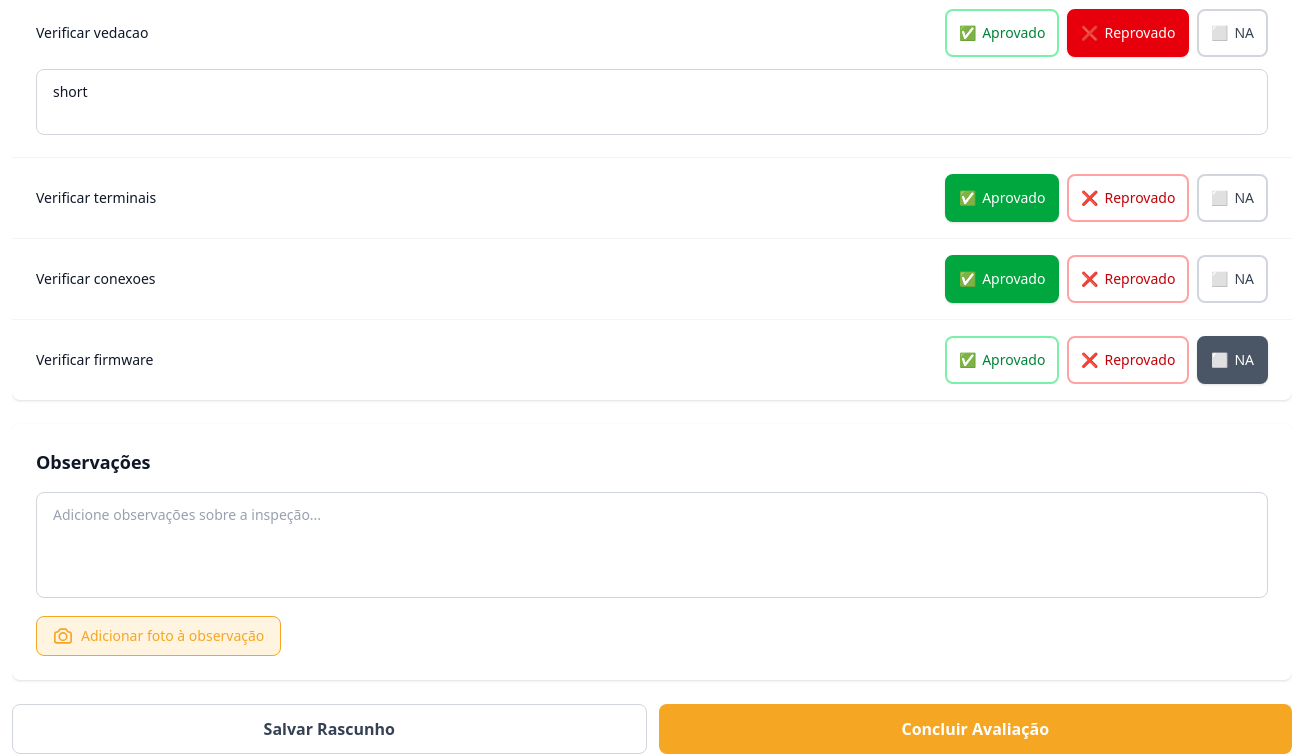
Test case: ChecklistForm - Checklist Validation (US-306) › blocks submission when rejected item reason is too short
The image size is (1304, 754).
(page scrolled)
// The form initializes rejection reasons from items
What coordinates should you click on to do the following:
click the button "Concluir Avaliação"
I would click on:
 (975, 729)
Its box is [658,704,1292,753].
(page scrolled)
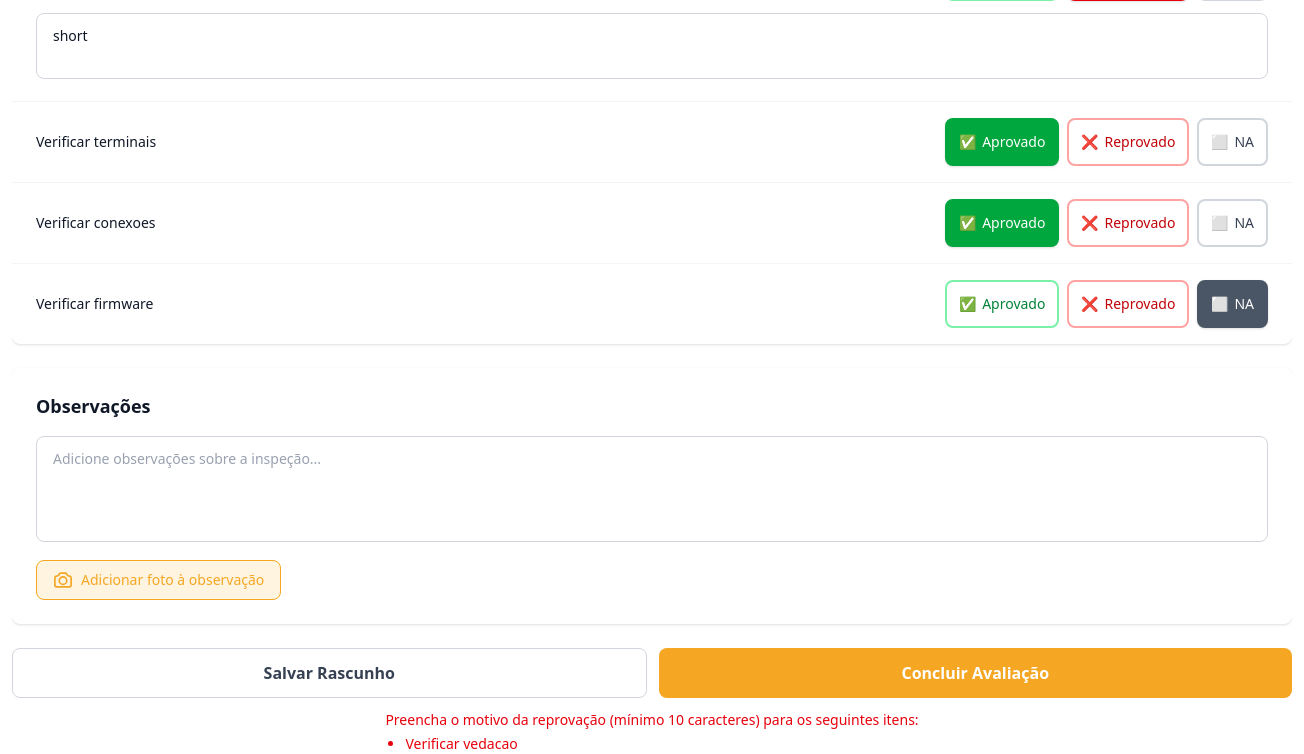
expect the message with test id "validation-error" is shown: met, box [385,710,919,753]
